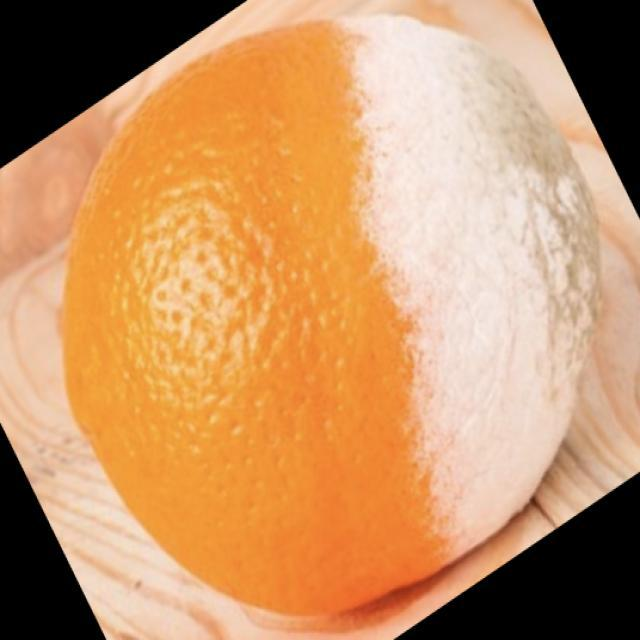sangat-busuk: (342, 15, 598, 556)
